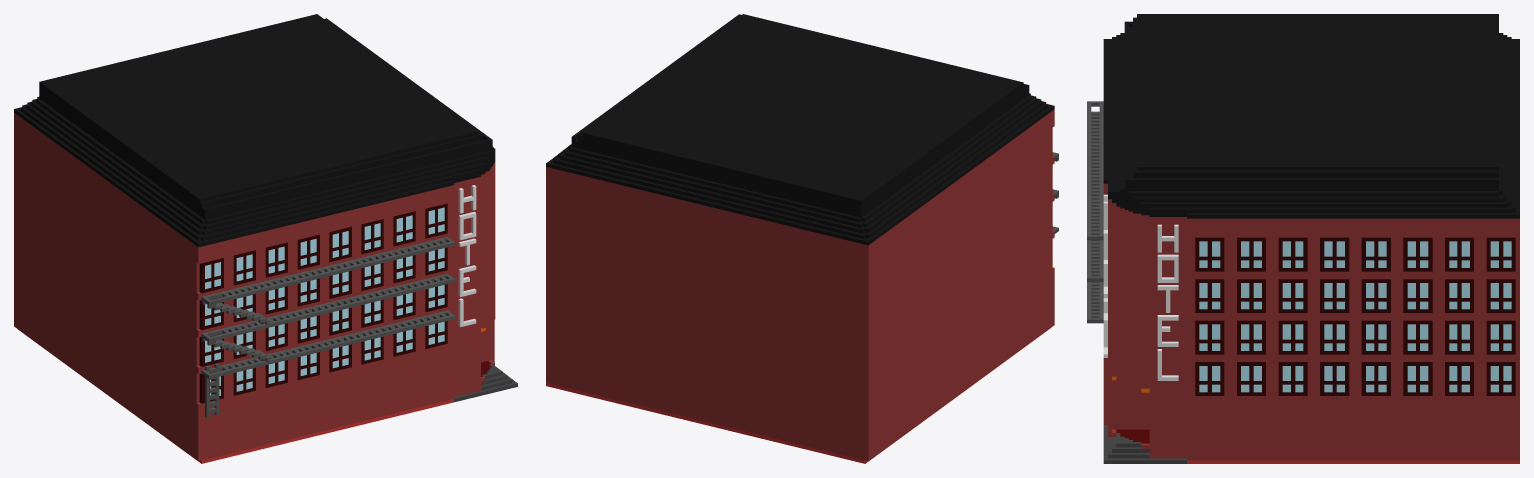
Rendered from hotel no details filled.obj.
3 renders of one model, left to right at view 1: azimuth 30°, elevation 25°; view 2: azimuth 150°, elevation 25°; view 3: azimuth 270°, elevation 25°, orthographic. The views are drawn at different scales.
Parts seen in each view (by area): view 1: hotel no details filled; view 2: hotel no details filled; view 3: hotel no details filled.
Part boxes in pixels (x1=…): hotel no details filled: x1=14, y1=14, x2=517, y2=463; hotel no details filled: x1=546, y1=14, x2=1058, y2=463; hotel no details filled: x1=1087, y1=14, x2=1519, y2=463.
Bounding box in the file's own units: 100 × 75 × 104.
1 material, 1 textured.
